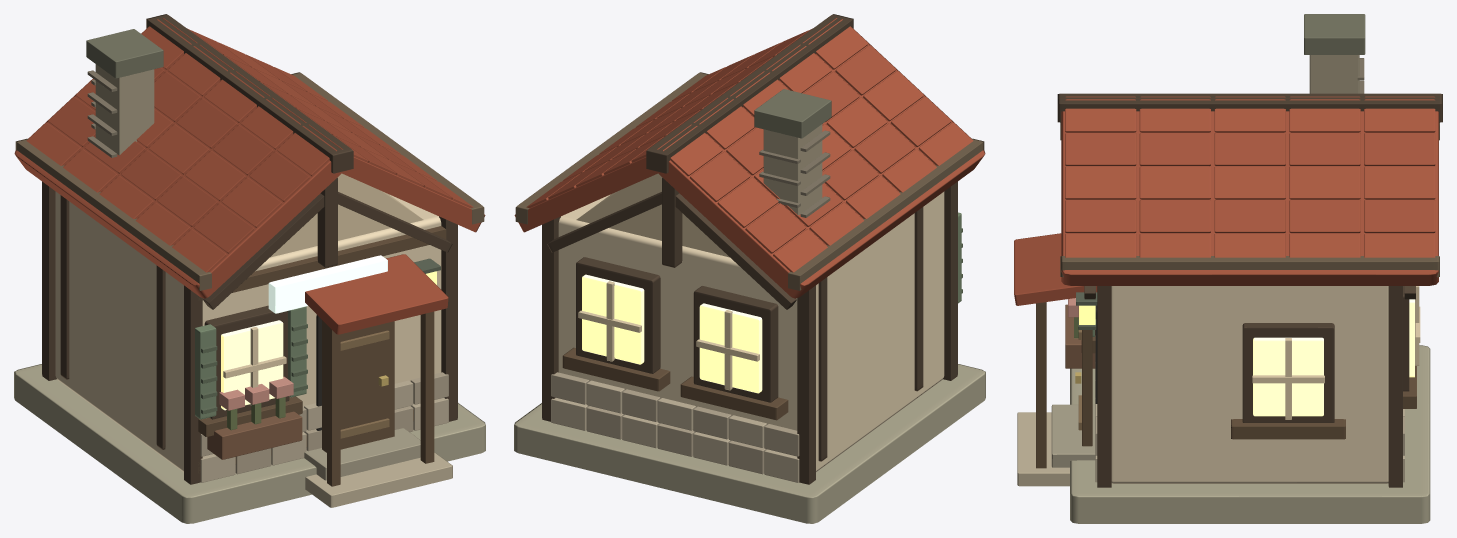
The model's file is workshop-0.glb.
3 renders of one model, left to right at view 1: azimuth 30°, elevation 25°; view 2: azimuth 150°, elevation 25°; view 3: azimuth 270°, elevation 25°, orthographic. The views are drawn at different scales.
Visible parts, largest first — view 1: workshop-0-0, door-hinge; view 2: workshop-0-0; view 3: workshop-0-0, door-hinge.
Boxes of the visible parts, x1,y1,x2,y2 form: workshop-0-0: (14, 14, 485, 523); door-hinge: (322, 320, 394, 452); workshop-0-0: (514, 14, 985, 523); workshop-0-0: (1014, 14, 1442, 523); door-hinge: (1075, 306, 1092, 446).
Bounding box in the file's own units: 1.88 × 2.19 × 2.24.
